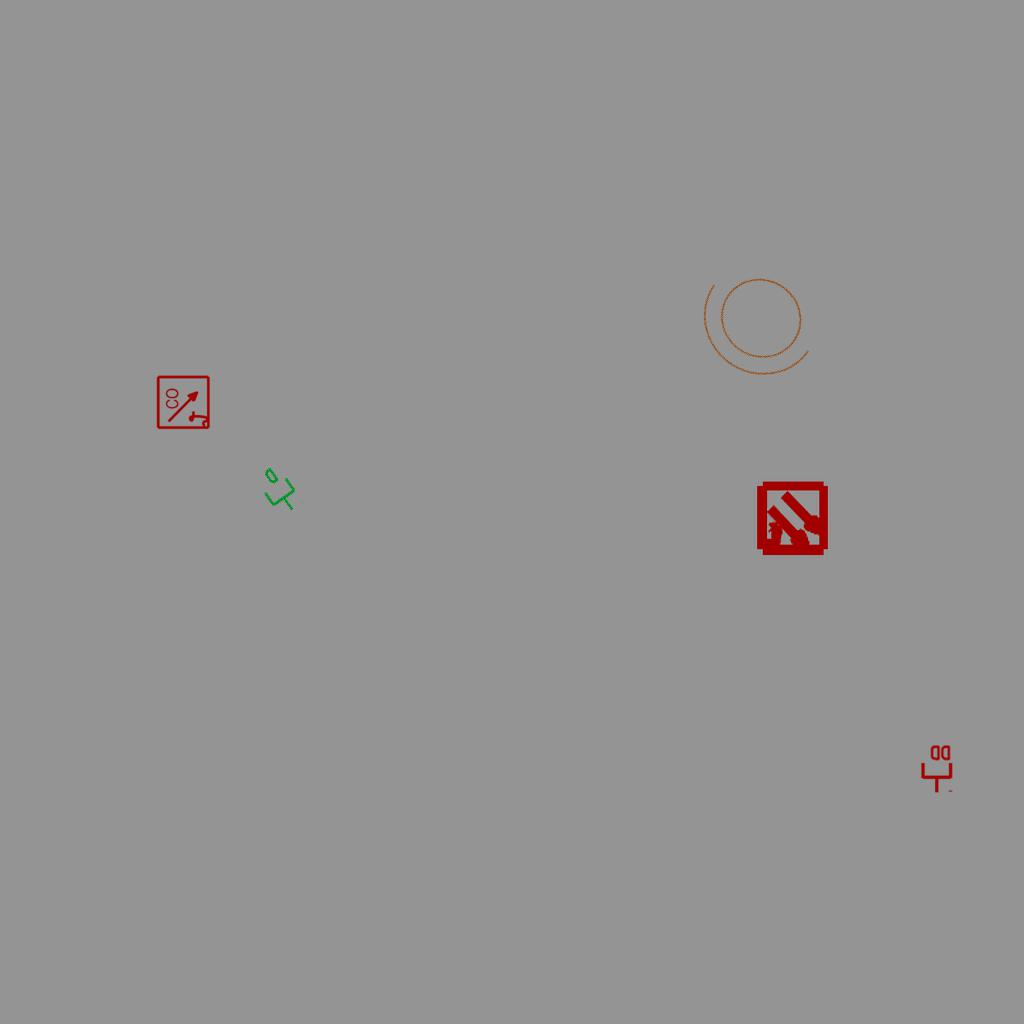Datenanschluss_einfach: (249, 460, 307, 522)
Datenanschluss_zweifach: (919, 743, 953, 794)
OT_Multisensormelder_(Kombination_RMO_WMD): (736, 464, 849, 577)
ROA_Rauchmelder_optisch_mit_Signalgeber_(Sockelsirene): (156, 374, 212, 430)
Scheinwerfer_fuer_Alarmbeleuchtung: (674, 240, 848, 408)
